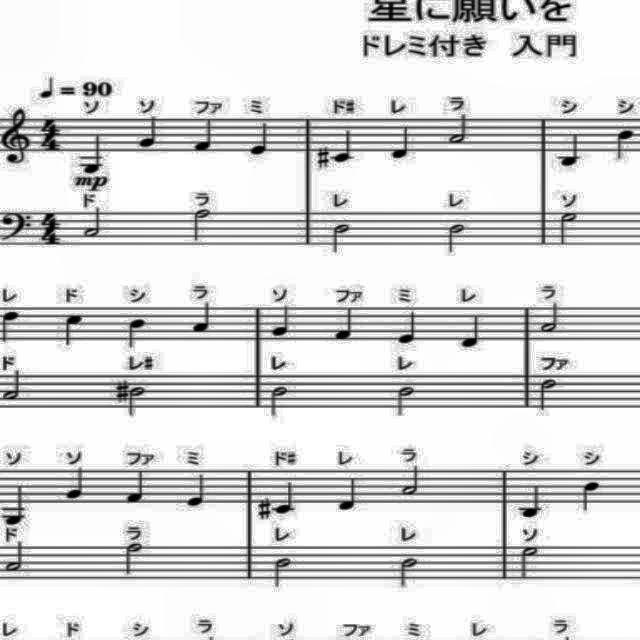Bass-clef: (0, 206, 36, 245)
Diez: (310, 142, 334, 174), (254, 492, 274, 524), (111, 380, 131, 404)
Half-note: (112, 540, 148, 580), (442, 221, 470, 261), (191, 204, 217, 246), (393, 556, 423, 592), (270, 554, 298, 592), (554, 209, 580, 249), (442, 112, 470, 148), (1, 368, 29, 404), (399, 464, 427, 500), (514, 544, 542, 580), (268, 385, 294, 423), (393, 382, 419, 418), (539, 301, 565, 337), (2, 541, 28, 577), (330, 221, 354, 259), (532, 378, 560, 410), (82, 206, 106, 242), (126, 384, 148, 416)
Quarter-note: (78, 128, 110, 176), (329, 300, 358, 348), (382, 120, 414, 163), (2, 483, 30, 532), (62, 463, 94, 505), (458, 308, 486, 352), (120, 463, 148, 507), (558, 127, 584, 173), (514, 482, 546, 518), (331, 126, 359, 166), (136, 111, 164, 151), (272, 478, 300, 518), (392, 308, 420, 347), (56, 313, 88, 347), (190, 116, 218, 154), (248, 121, 276, 159), (184, 470, 208, 514), (336, 474, 362, 514), (0, 308, 28, 344), (269, 302, 295, 340), (576, 479, 604, 513), (611, 125, 637, 161), (123, 316, 149, 350), (190, 301, 216, 335), (36, 68, 58, 104)
Treble-clef: (0, 106, 36, 165)
